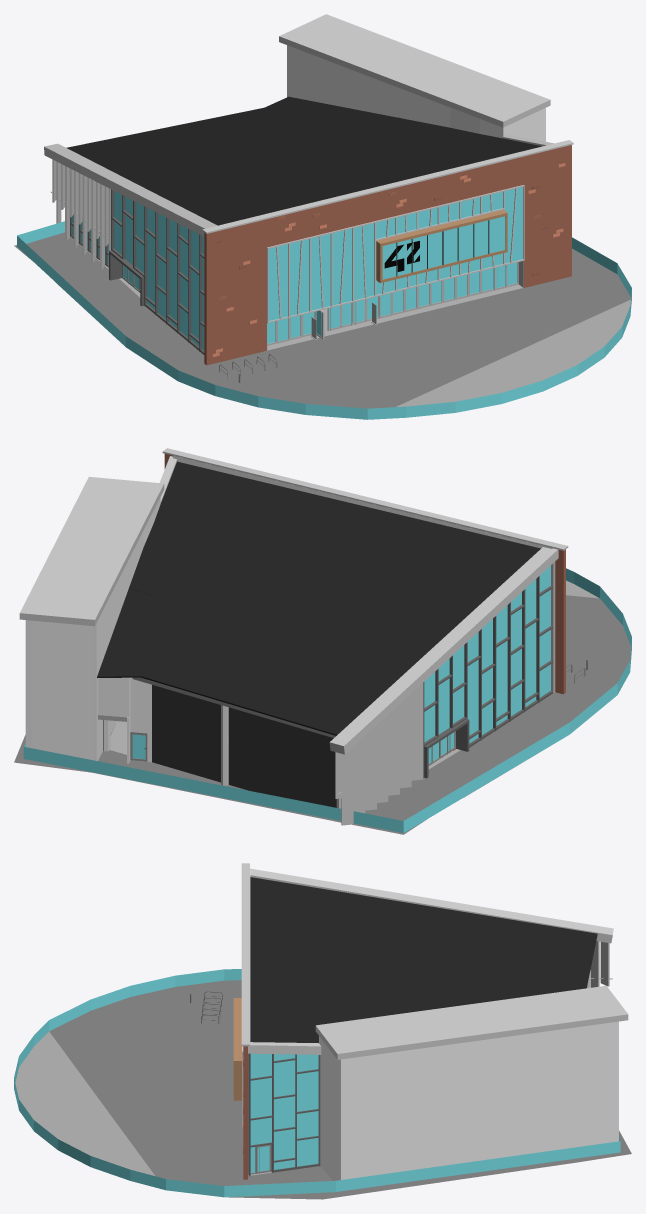
File: 42WOB_v6.glb
The picture shows the model from 3 angles, top to bottom: view 1: azimuth 30°, elevation 25°; view 2: azimuth 150°, elevation 25°; view 3: azimuth 270°, elevation 25°; orthographic projection. The views are drawn at different scales.
Parts seen in each view (by area): view 1: Ground.003, Cube.2922, Cube.2723, Plane.076, Cube.2916, EndWall_NOCOL.001, Cube.2915, Ground.004, Plane.093, Plane.077, Cube.2826, Cube.2921 (+10 smaller); view 2: Cube.2922, Ground.003, Cube.2915, Cube.2916, EndWall_NOCOL.001, Cube.718, Plane.093, Cube.2921, Cube.717, Cube.2828, Cube.2826, Cube.2724 (+10 smaller); view 3: Cube.2922, Cube.2915, Ground.003, Cube.2916, EndWall_NOCOL.001, Ground.004, Plane.096, Cube.2921, Cube.2724, Cube.2863, Cube.2726, Cube.2923 (+1 smaller).
Boxes of the visible parts, x1,y1,x2,y2 form: Ground.003: (14, 232, 630, 408); Cube.2922: (66, 96, 541, 225); Cube.2723: (204, 145, 571, 365); Plane.076: (268, 187, 522, 320); Cube.2916: (279, 14, 550, 127); EndWall_NOCOL.001: (17, 221, 631, 419); Cube.2915: (287, 45, 545, 141); Ground.004: (395, 299, 630, 407); Plane.093: (147, 208, 204, 350); Plane.077: (382, 216, 505, 279); Cube.2826: (111, 189, 202, 351); Cube.2921: (44, 143, 217, 236); Cube.2922: (97, 461, 540, 735); Ground.003: (14, 595, 631, 834); Cube.2915: (25, 497, 160, 760); Cube.2916: (19, 476, 164, 626); EndWall_NOCOL.001: (23, 568, 631, 833); Cube.718: (228, 707, 336, 807); Plane.093: (467, 565, 550, 743); Cube.2921: (329, 547, 558, 754); Cube.717: (152, 685, 220, 782); Cube.2828: (341, 683, 423, 825); Cube.2826: (423, 576, 539, 777); Cube.2724: (162, 448, 568, 550); Cube.2922: (250, 877, 597, 1042); Cube.2915: (319, 1021, 618, 1180); Ground.003: (49, 980, 631, 1199); Cube.2916: (315, 985, 628, 1059); EndWall_NOCOL.001: (14, 969, 620, 1197); Ground.004: (15, 1031, 154, 1175); Plane.096: (250, 1053, 318, 1169); Cube.2921: (250, 868, 613, 943); Cube.2724: (241, 863, 249, 1046); Cube.2863: (248, 1053, 320, 1176); Cube.2726: (233, 998, 241, 1100); Cube.2923: (248, 1042, 321, 1054).
Bounding box in the file's own units: 41.5 × 12.35 × 49.05.
